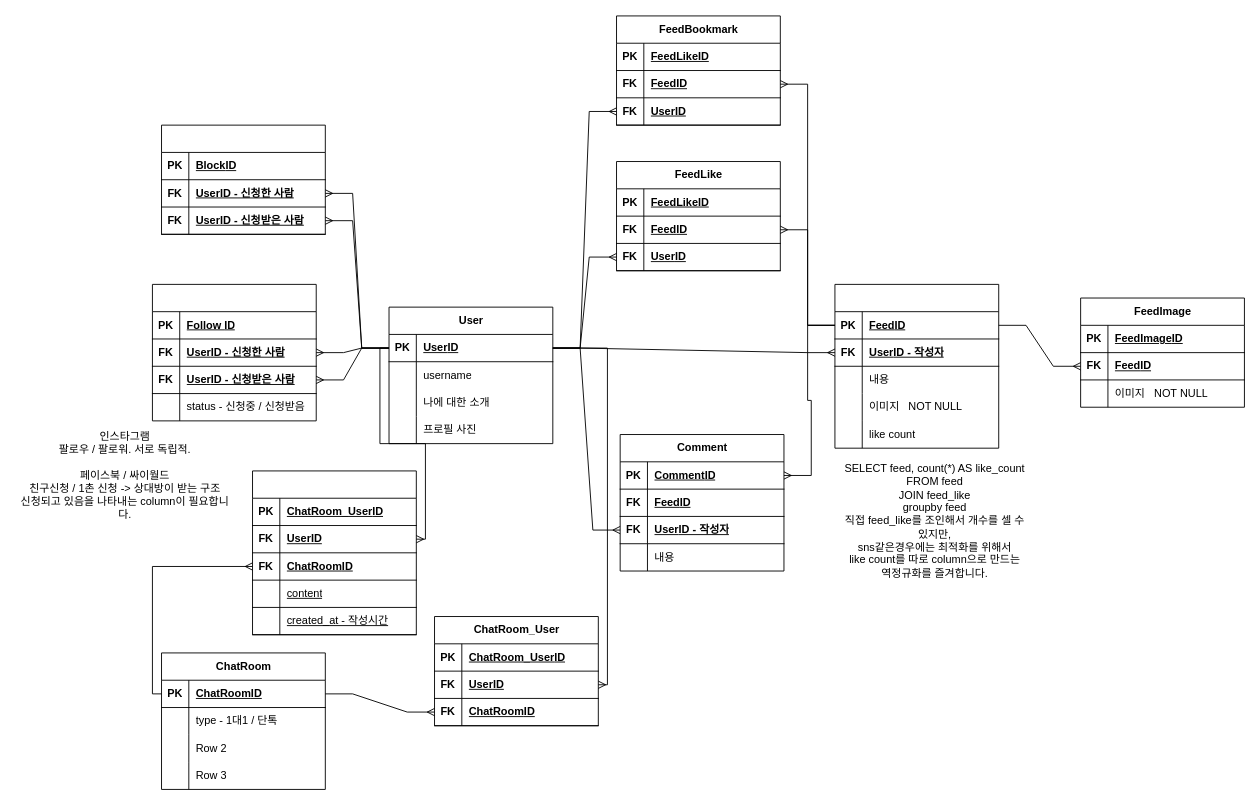
Image size: 1260x805. Some labels were removed from this diagram. The box of each missing label's shape, as (x1, y1, x2, y2) in pixels:
Feed(Post): (834, 283, 999, 448)
Follow / 친구추가 / 1촌신청: (152, 283, 316, 421)
Message: (252, 470, 416, 635)
차단: (161, 124, 325, 234)
